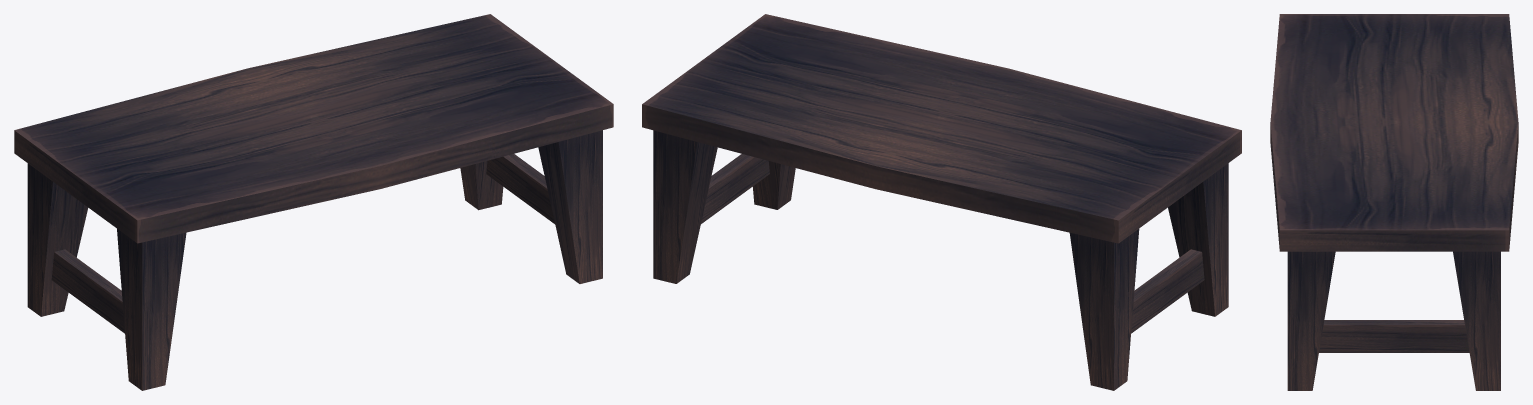
The model's file is Table_A_1x2.fbx.
The picture shows the model from 3 angles, left to right: view 1: azimuth 30°, elevation 25°; view 2: azimuth 150°, elevation 25°; view 3: azimuth 270°, elevation 25°; orthographic projection. The views are drawn at different scales.
Parts seen in each view (by area): view 1: Table_A_1x2; view 2: Table_A_1x2; view 3: Table_A_1x2.
Boxes of the visible parts, box(x1,y1,x2,y2) form: Table_A_1x2: box(14, 14, 613, 390); Table_A_1x2: box(642, 14, 1241, 390); Table_A_1x2: box(1270, 14, 1518, 390).
Bounding box in the file's own units: 0.6266 × 0.2211 × 0.3036.
